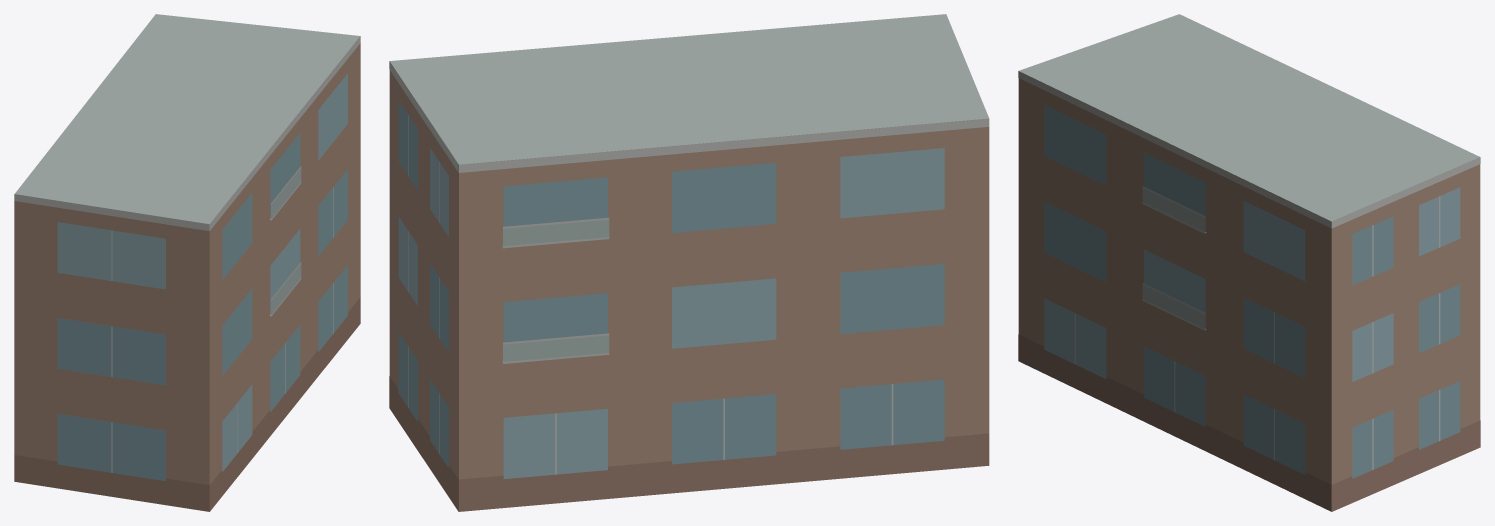
Rendered from survey-upis-32620079.glb.
The picture shows the model from 3 angles, left to right: view 1: azimuth 30°, elevation 25°; view 2: azimuth 150°, elevation 25°; view 3: azimuth 270°, elevation 25°; orthographic projection. The views are drawn at different scales.
Parts seen in each view (by area): view 1: survey-upis-32620079.tmp; view 2: survey-upis-32620079.tmp; view 3: survey-upis-32620079.tmp.
Part boxes in pixels (x1,y1,x2,y2): survey-upis-32620079.tmp: (14, 14, 360, 511); survey-upis-32620079.tmp: (389, 14, 989, 511); survey-upis-32620079.tmp: (1018, 14, 1480, 511).
Bounding box in the file's own units: 15.65 × 10.2 × 14.72.
